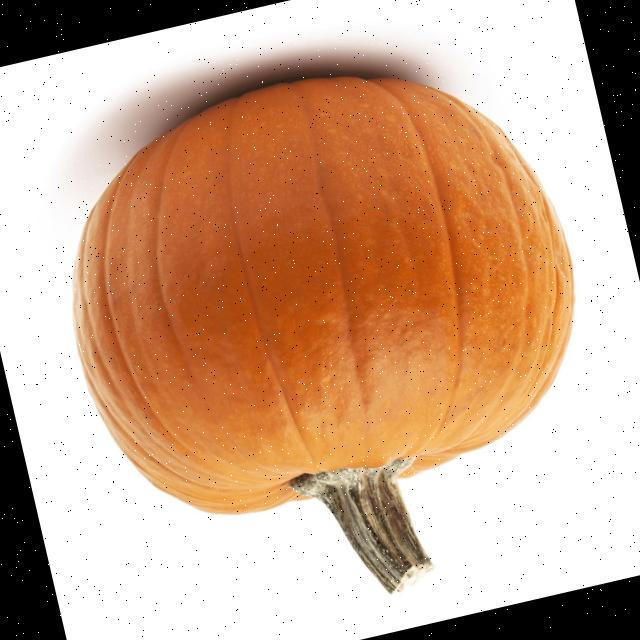pumpkin: (73, 76, 572, 591)
